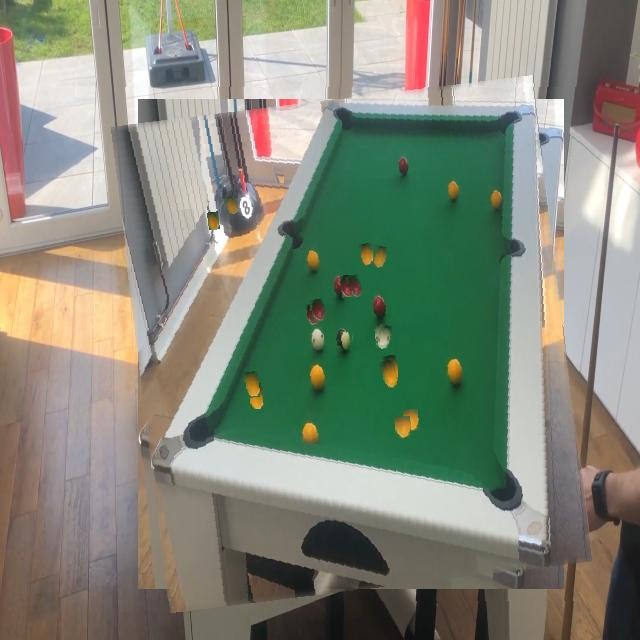Ball: (381, 360, 398, 388), (351, 326, 367, 352), (245, 371, 260, 398), (377, 325, 392, 349), (311, 299, 327, 321), (396, 416, 411, 439), (372, 246, 387, 269), (349, 274, 363, 298), (183, 209, 196, 230), (225, 196, 238, 214), (273, 165, 284, 183)
Billiard table: (126, 87, 580, 601)
